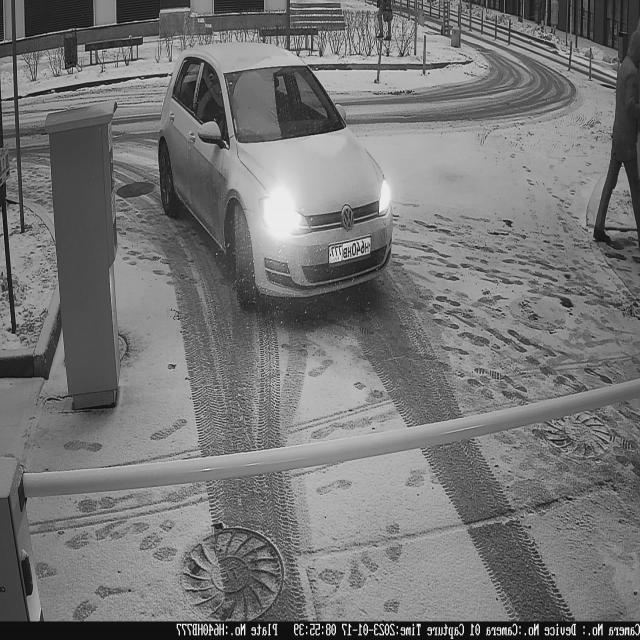car-plate-numbers: (326, 230, 376, 272)
